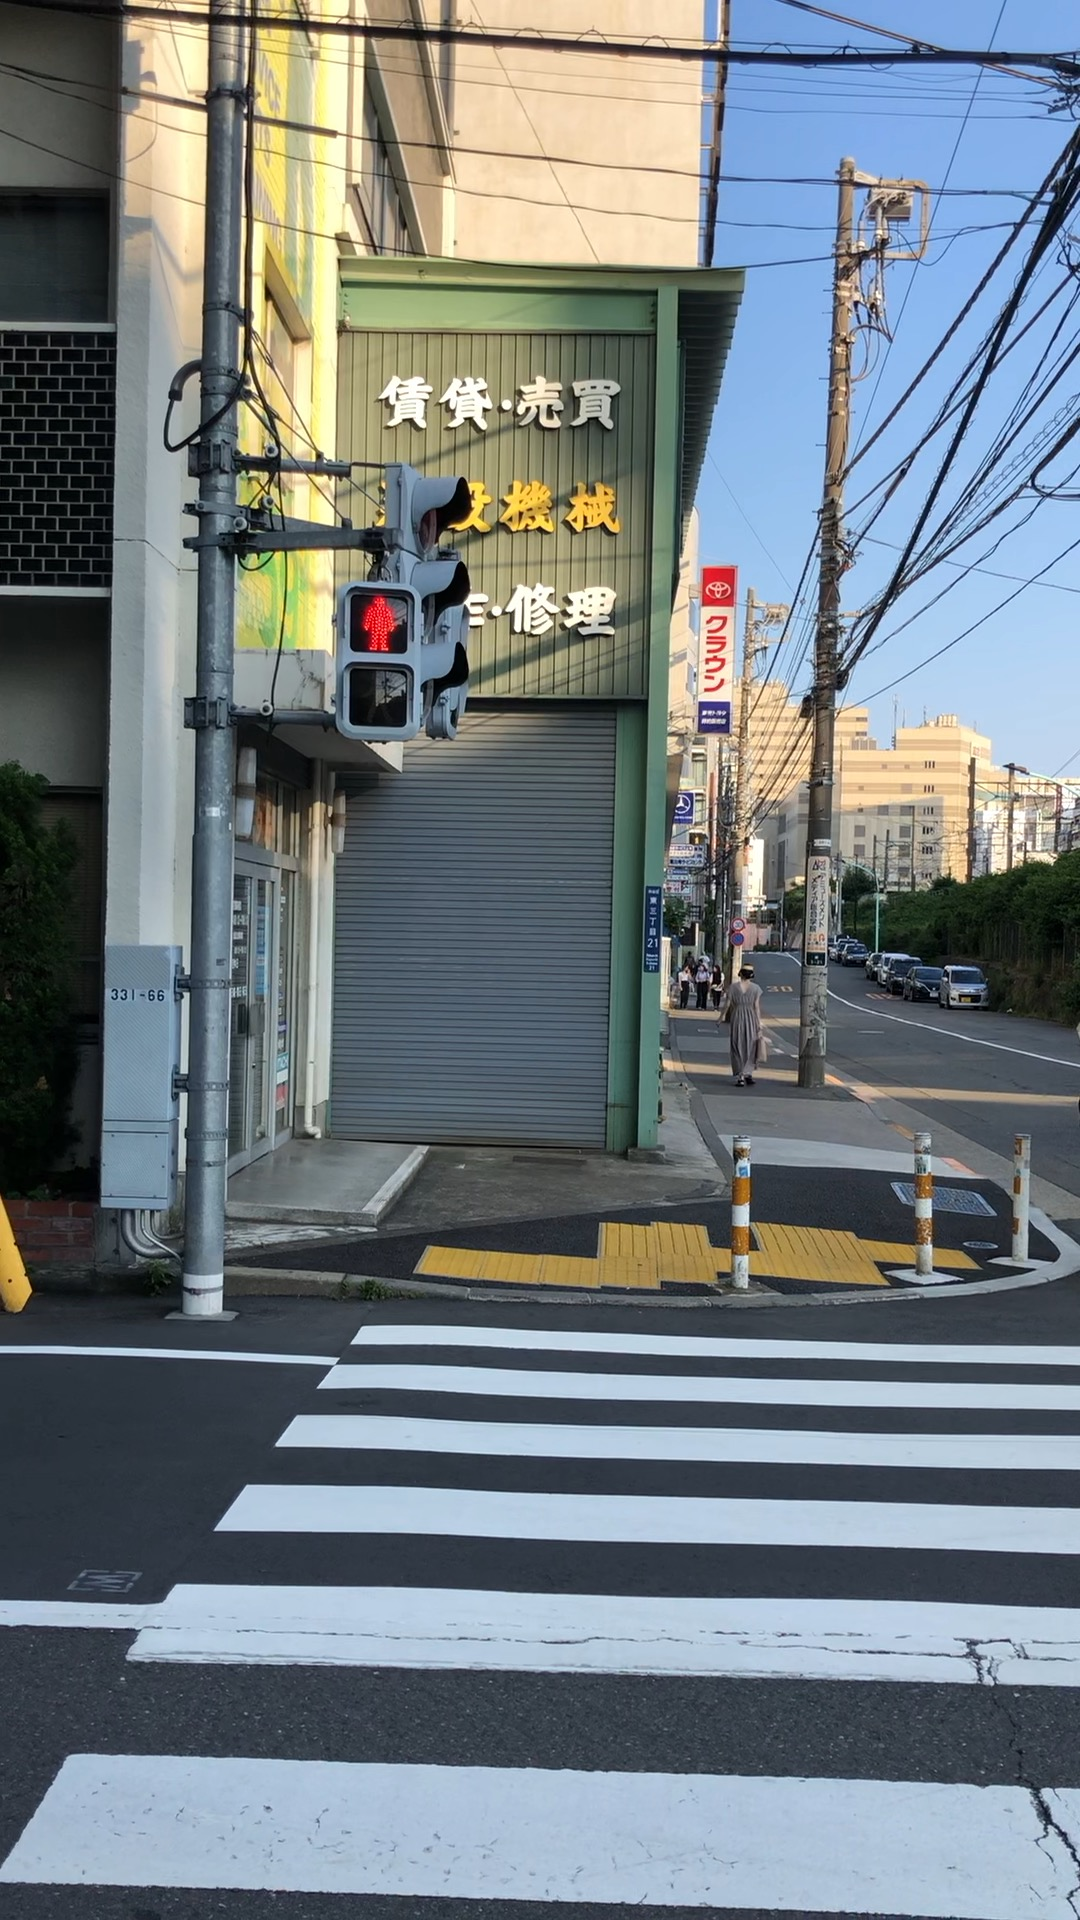red: (336, 579, 423, 740)
